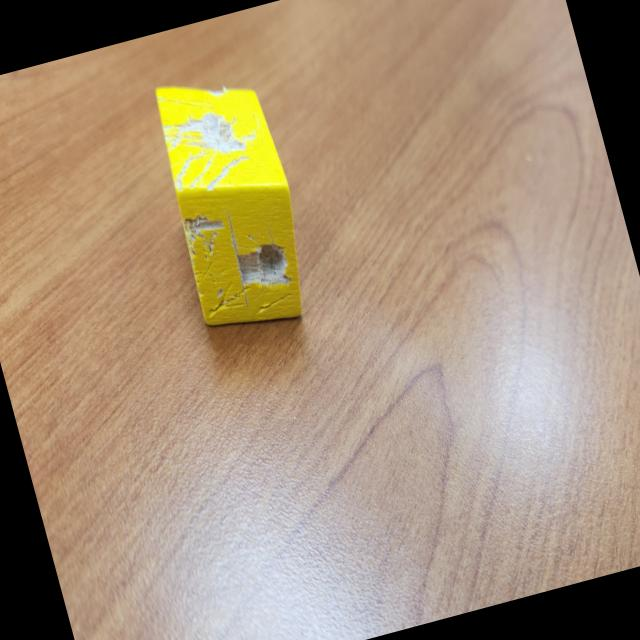broken: (142, 60, 322, 344)
